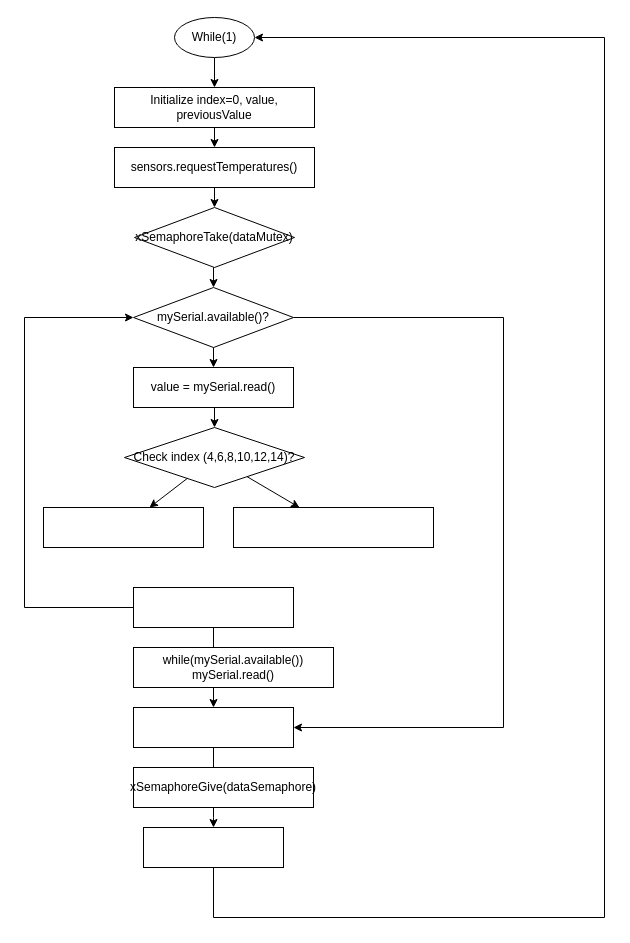
Some shapes in this 630 by 943 pixel diagram are drawn without their labels. Here are the shapes that lost their labels. From the top down, the centre of each, then its label:
At (123,527): "previousValue = value".
At (333,527): "Calculate PM1/PM2.5/PM10 based on index".
At (213,607): "index++".
At (213,727): "xSemaphoreGive(dataMutex)".
At (213,847): "vTaskDelay(1 second)".
